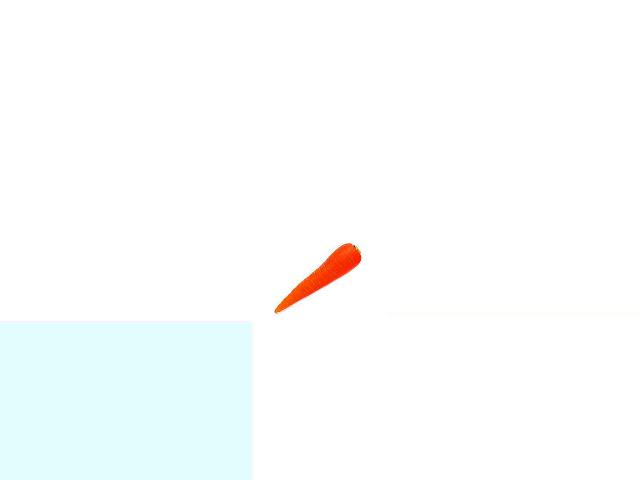carrot: (269, 242, 362, 318)
